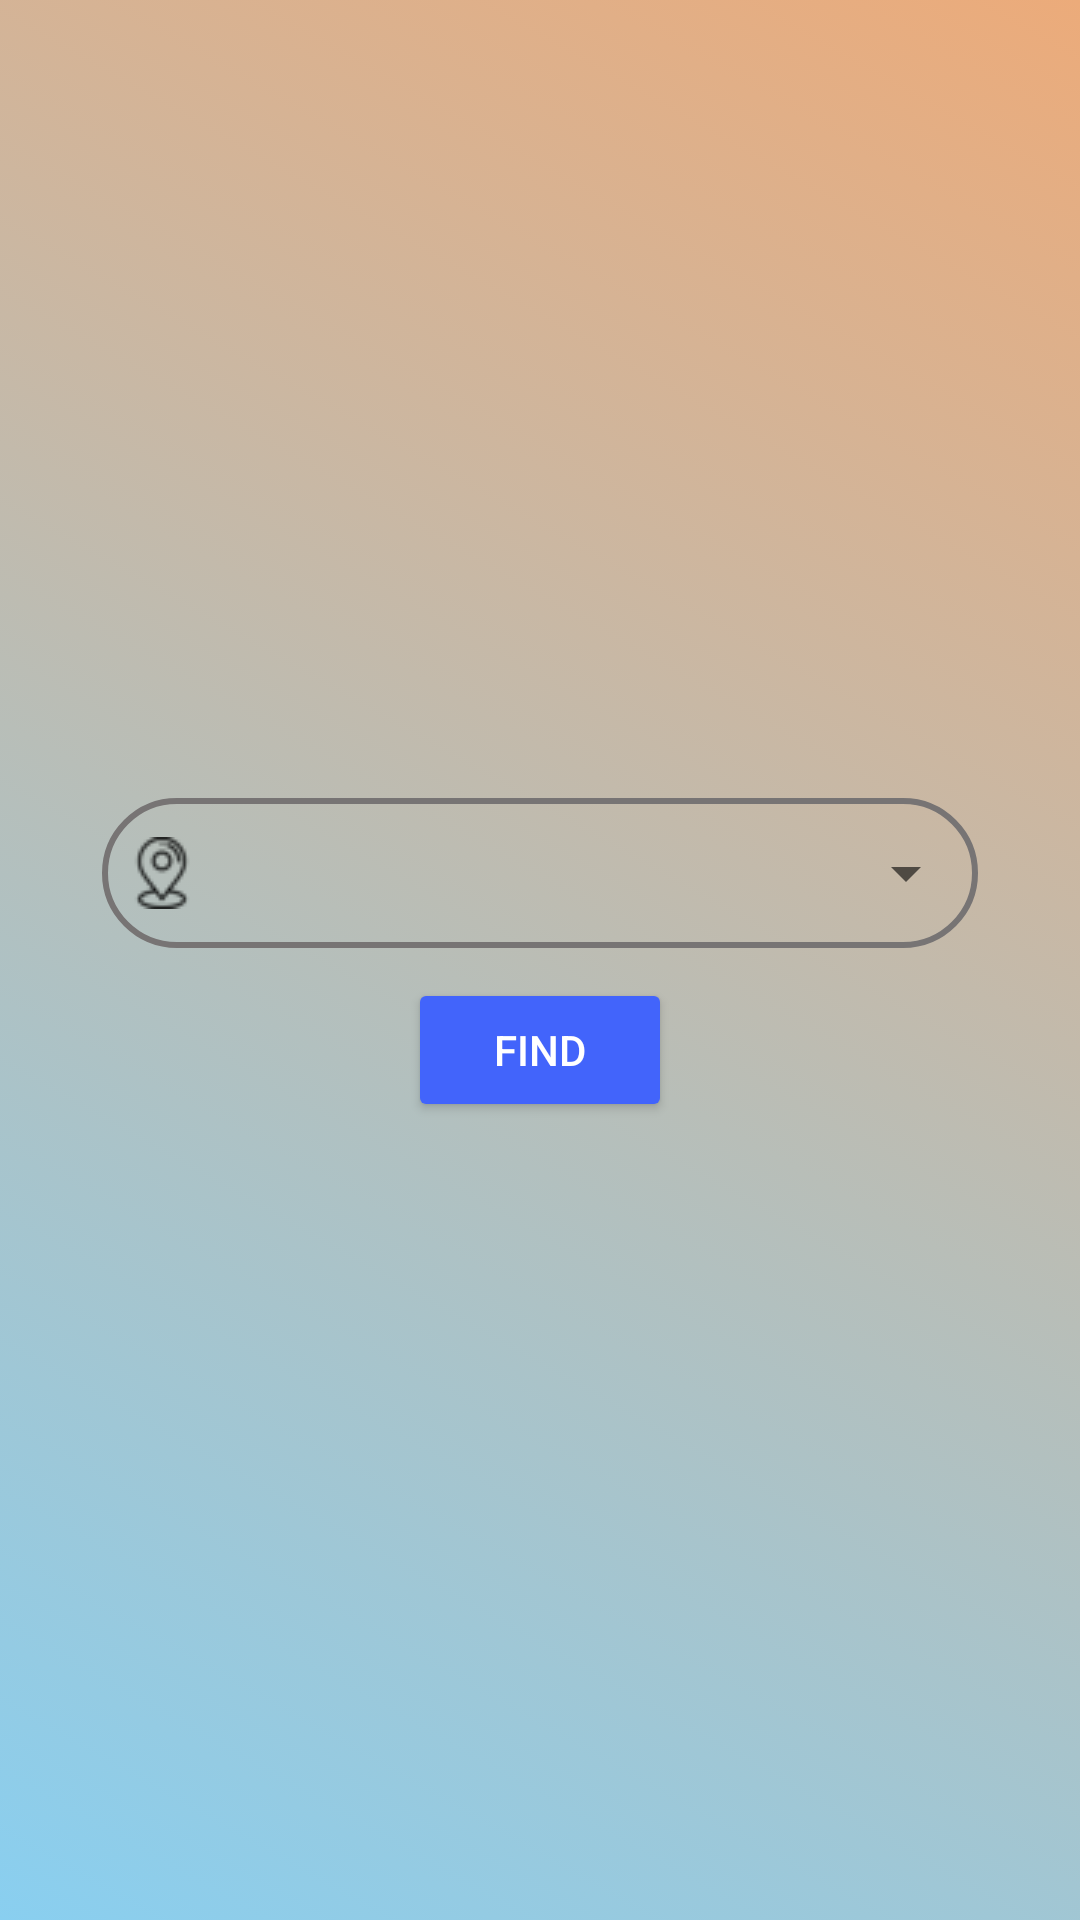

Icon click points for this 1080 × 1920 phone screenshot, format (x,y):
venue: (162,873)
